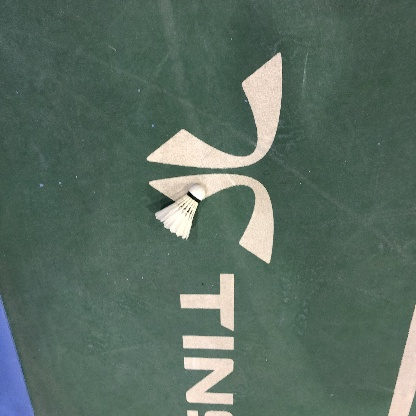ball_single: (155, 185, 205, 240)
